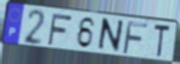2: (22, 8, 47, 47)
6: (75, 16, 96, 50)
F: (121, 20, 149, 56), (46, 13, 74, 47)
N: (95, 17, 126, 55)
T: (153, 23, 172, 60)
